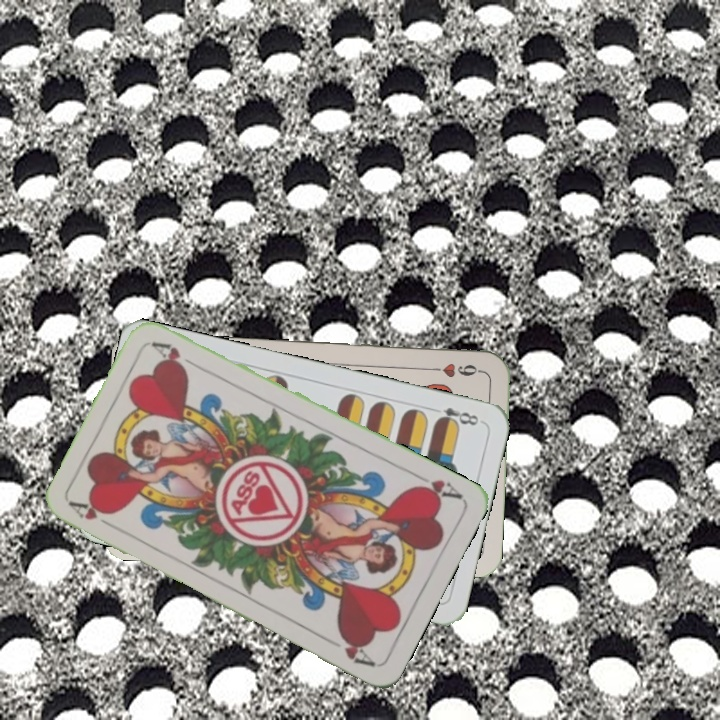E8: (426, 403, 482, 429)
H9: (426, 359, 485, 381)
HA: (67, 497, 120, 534), (409, 469, 465, 503)
